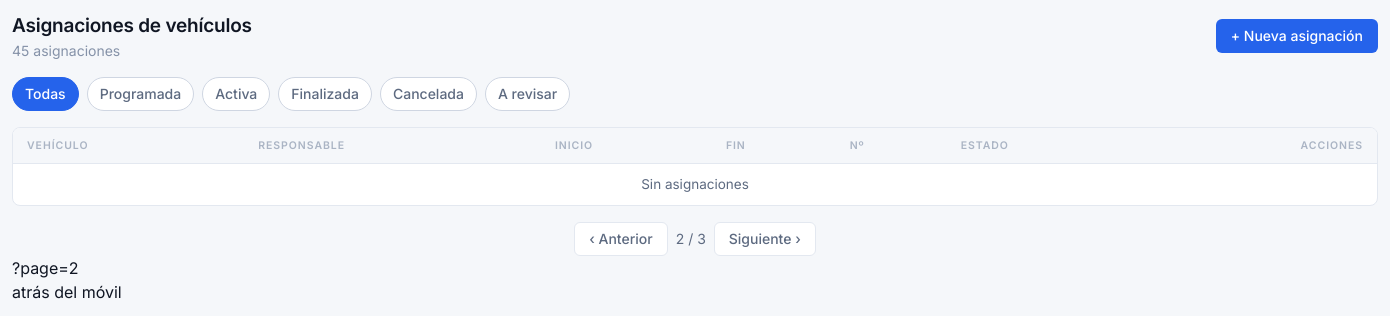
Test case: AsignacionList · lo que se estaba mirando sobrevive a ir al trabajo › pasar de página la apunta; cambiar de estado vuelve a la 1
Click the button "Siguiente ›".
click(765, 238)  # box [714,222,816,256]
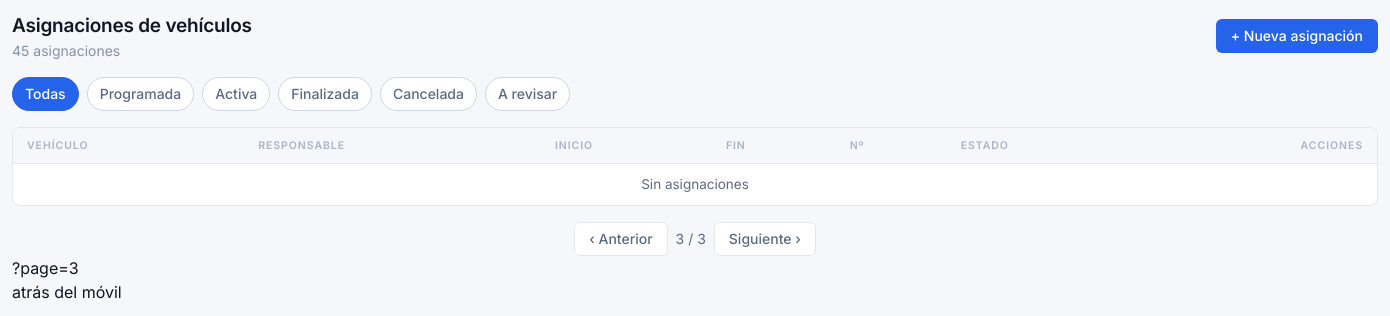
Result: the text with test id "url" reads "?page=3" at [12,258,79,278]
Click the button "Programada".
click(140, 94)  # box [87,76,194,110]
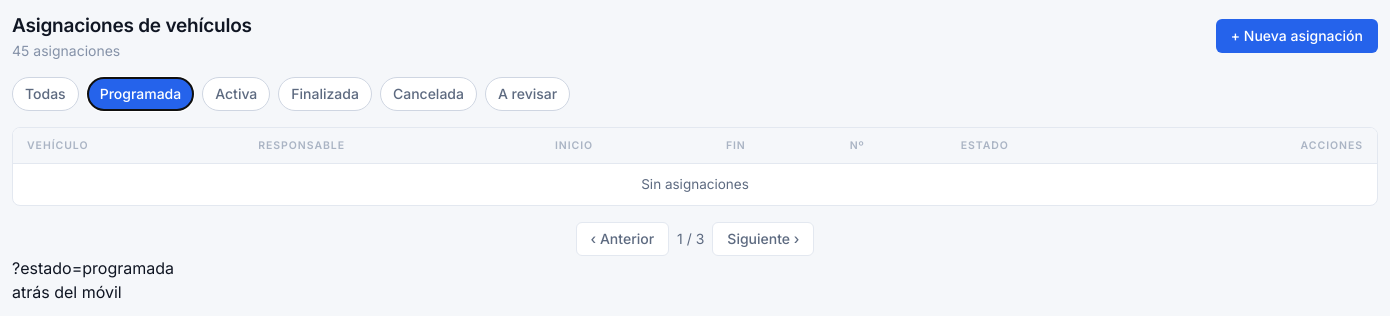
Result: the text with test id "url" reads "?estado=programada" at [12,258,174,278]
